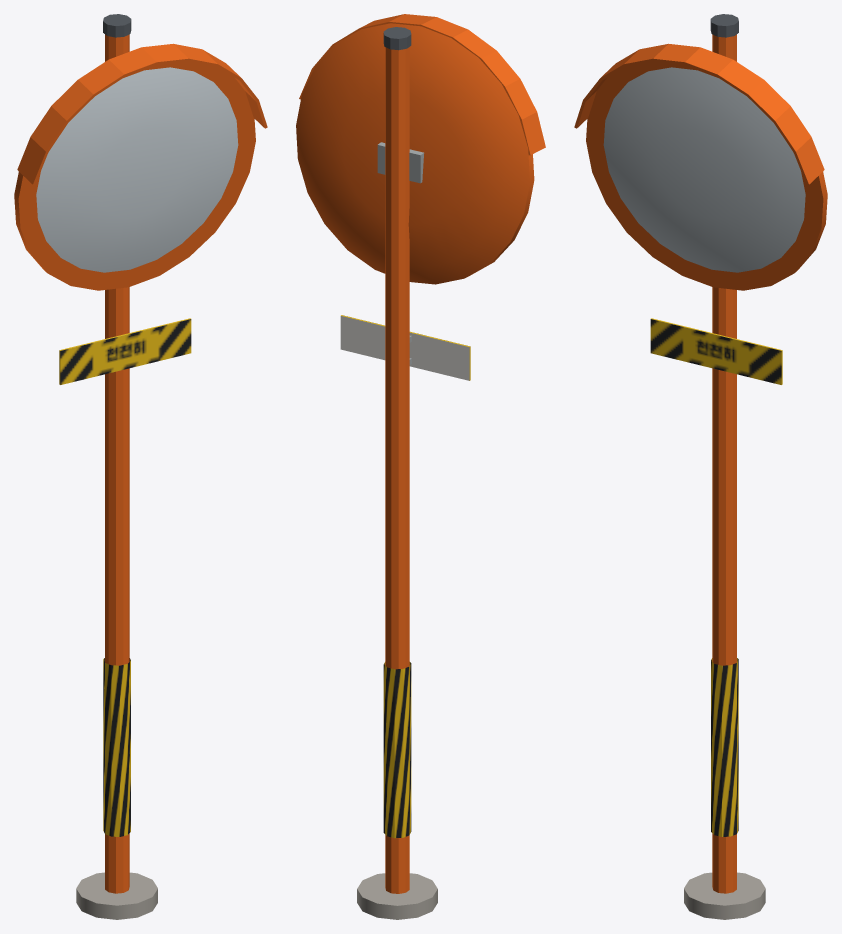
Rendered from SC_Util_Mirror_Convex.gltf.
The picture shows the model from 3 angles, left to right: view 1: azimuth 30°, elevation 25°; view 2: azimuth 150°, elevation 25°; view 3: azimuth 330°, elevation 25°; orthographic projection.
Parts seen in each view (by area): view 1: SC_Util_Mirror_Convex; view 2: SC_Util_Mirror_Convex; view 3: SC_Util_Mirror_Convex.
Boxes of the visible parts, <box> form: SC_Util_Mirror_Convex: <box>14,14,267,919</box>; SC_Util_Mirror_Convex: <box>296,14,545,919</box>; SC_Util_Mirror_Convex: <box>574,14,827,919</box>.
Size of the model in its own units: 0.87 by 3.09 by 0.3829.
Materials: 2 (2 with a texture image).
